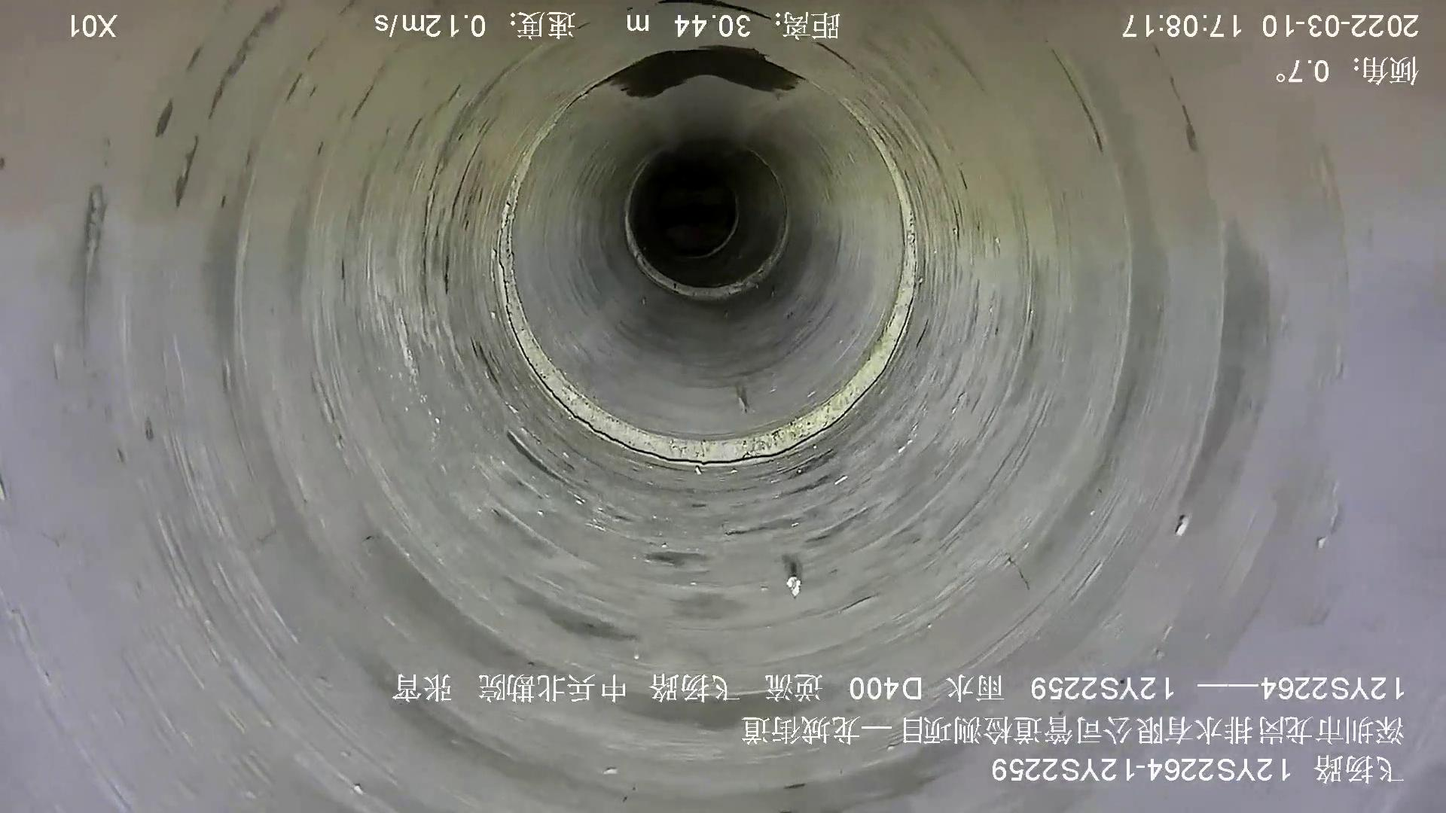CKTJ: (495, 90, 923, 472), (624, 162, 789, 300)
